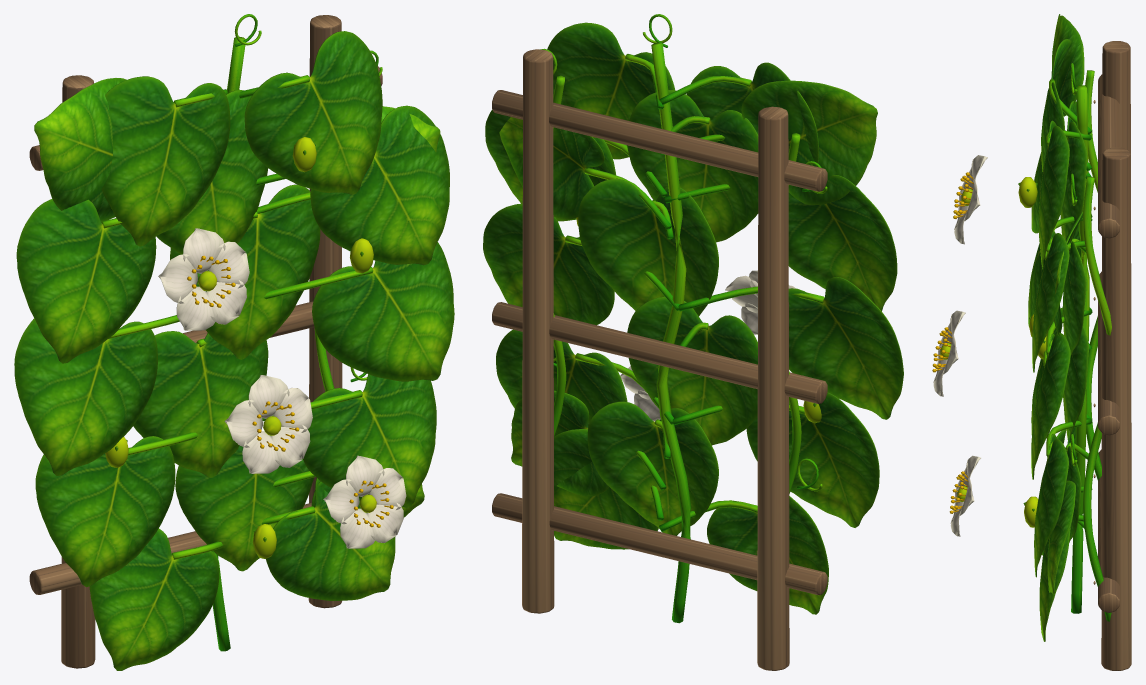
The model's file is NP_Kiwi_Flowering.fbx.
3 renders of one model, left to right at view 1: azimuth 30°, elevation 25°; view 2: azimuth 150°, elevation 25°; view 3: azimuth 270°, elevation 25°, orthographic. The views are drawn at different scales.
Parts seen in each view (by area): view 1: NP_Kiwi_Flowering; view 2: NP_Kiwi_Flowering; view 3: NP_Kiwi_Flowering.
Boxes of the visible parts, box(x1,y1,x2,y2) form: NP_Kiwi_Flowering: box(14, 14, 454, 670); NP_Kiwi_Flowering: box(483, 14, 903, 670); NP_Kiwi_Flowering: box(932, 14, 1131, 670).
Bounding box in the file's own units: 83.02 × 115 × 37.19.
